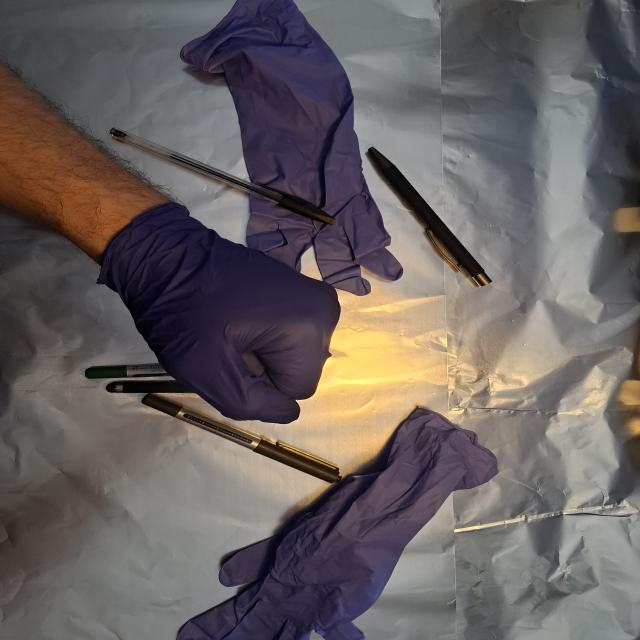glove_on: (102, 204, 345, 426)
